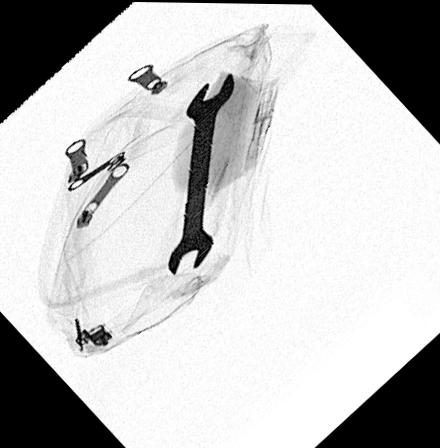Wrench: (168, 69, 235, 272)
